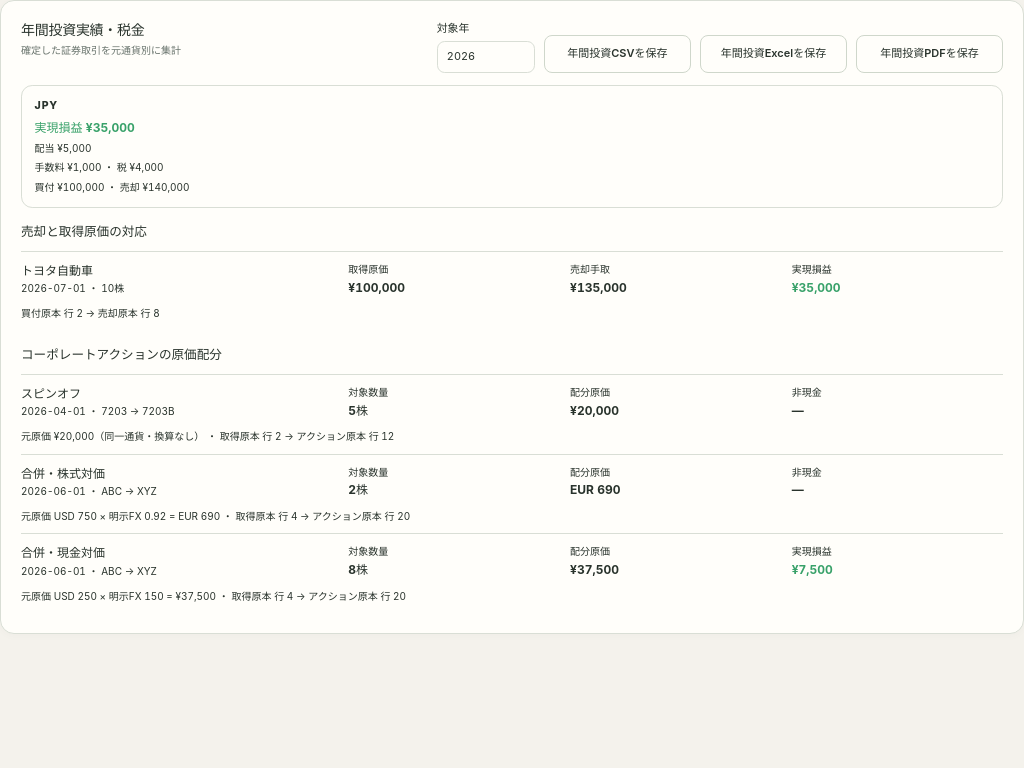
Scenario: InvestmentPeriodReport › saves the exact selected annual scope with progress and keeps the report visible
Expected: the text "実現損益 ¥35,000" is shown, 35,120 -> 135,134
Replace the text in the number field named "投資実績の対象年" with "2025" at (486, 57), box 437,41 -> 535,73
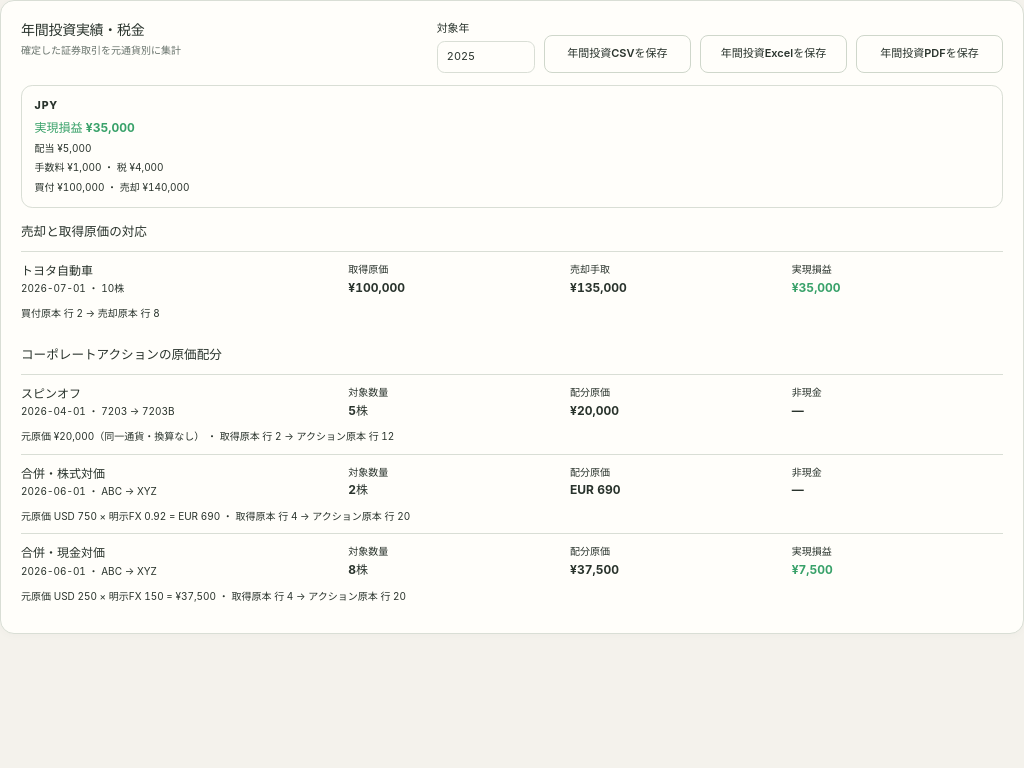
Click the button "年間投資Excelを保存" at (773, 54), box 700,35 -> 847,73
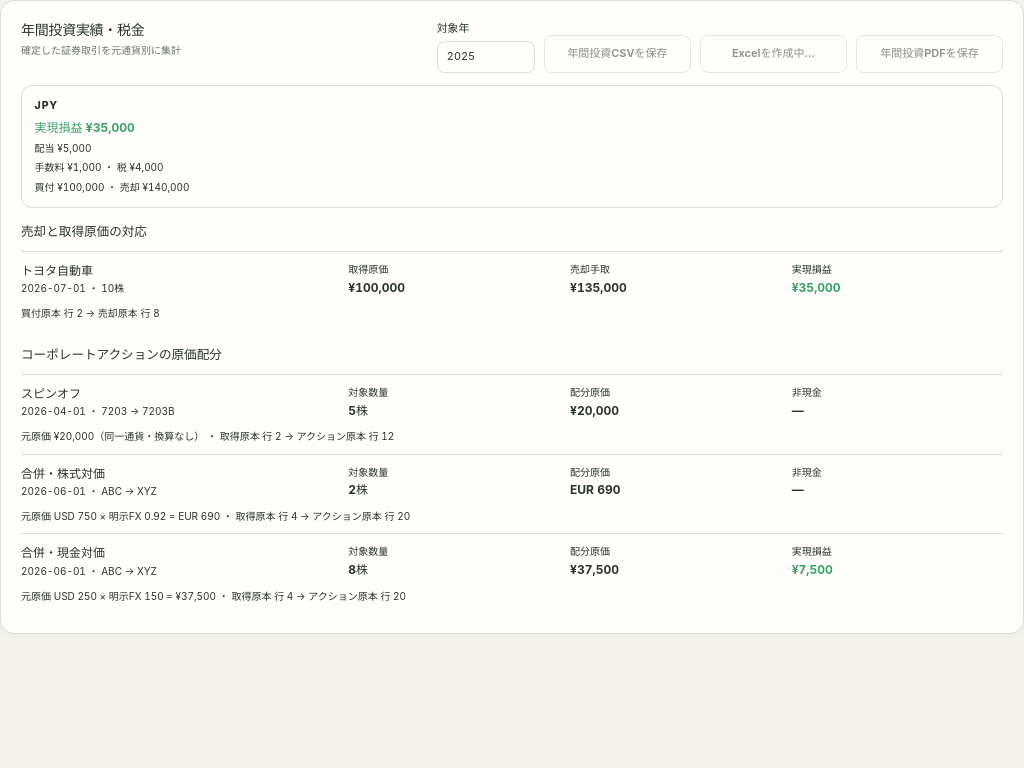
Expected: the button "Excelを作成中…" is disabled
Expected: the button "年間投資PDFを保存" is disabled, 856,35 -> 1003,73
Click the button "Excelを作成中…" at (773, 54), box 700,35 -> 847,73
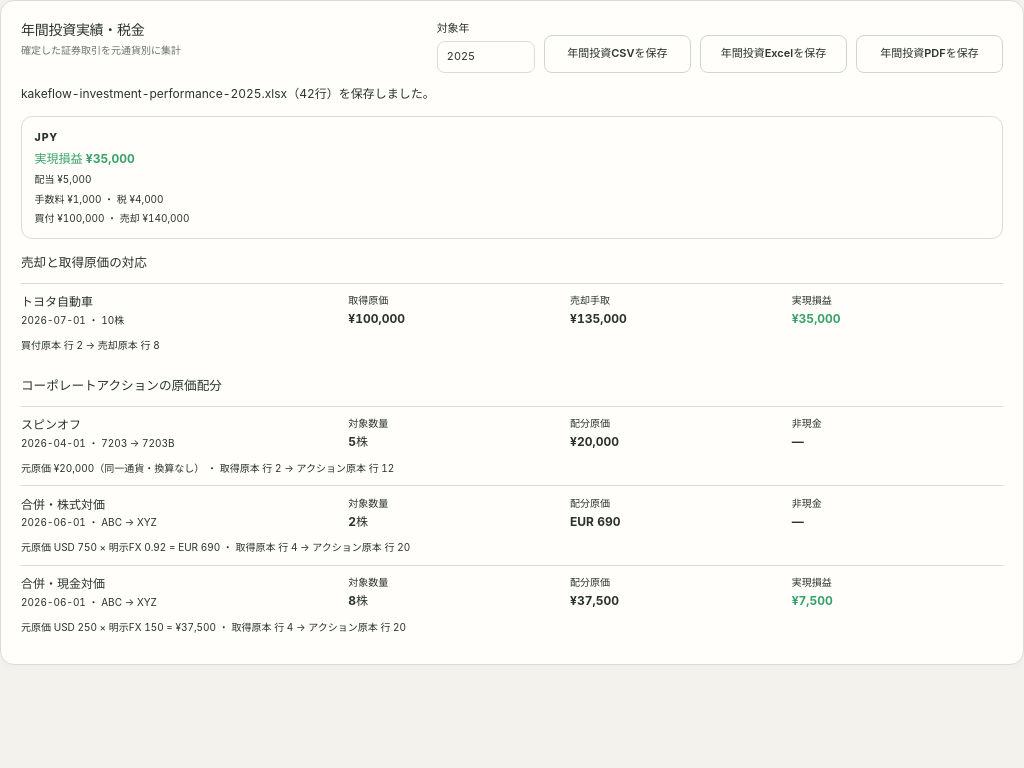
Expected: the text "実現損益 ¥35,000" is shown, 35,151 -> 135,166
Expected: the text "kakeflow-investment-performance-2025.xlsx（42行）を保存しました。" is shown, 21,86 -> 435,101
